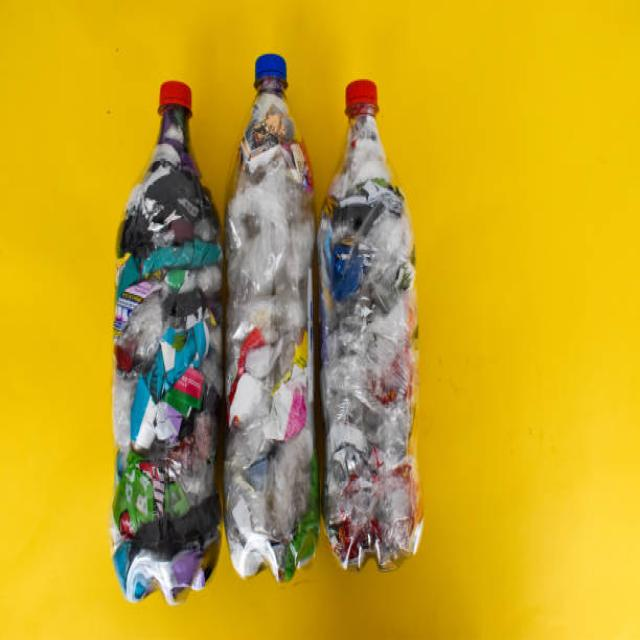plastic: (115, 59, 418, 556)
